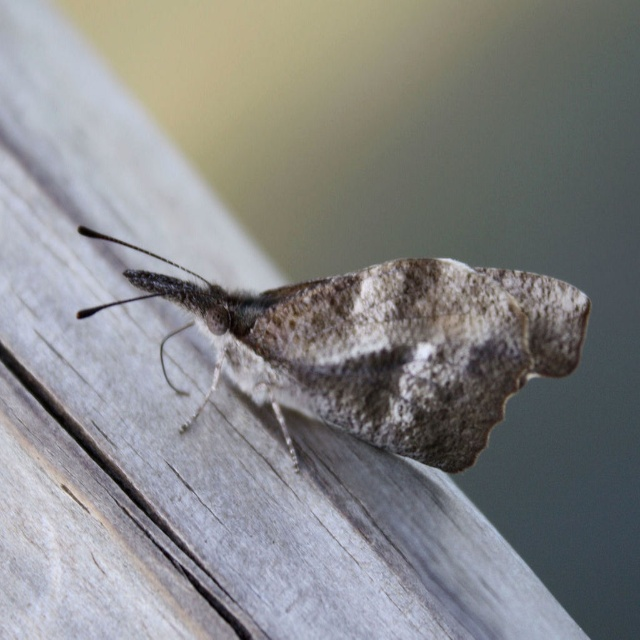Moths and butterflies: (76, 225, 596, 475)
